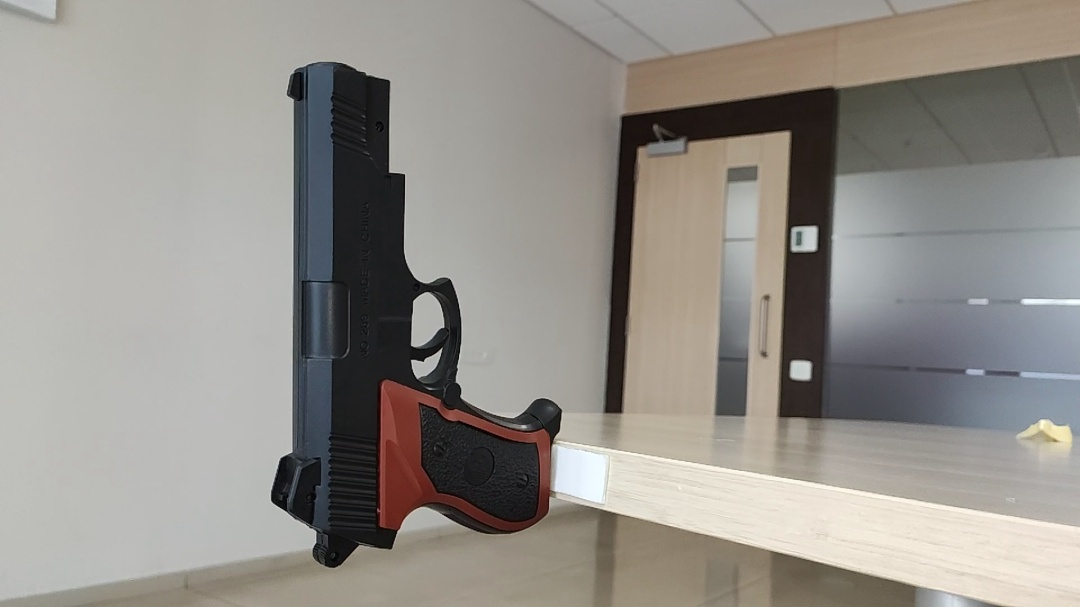gun: (390, 225, 426, 260)
